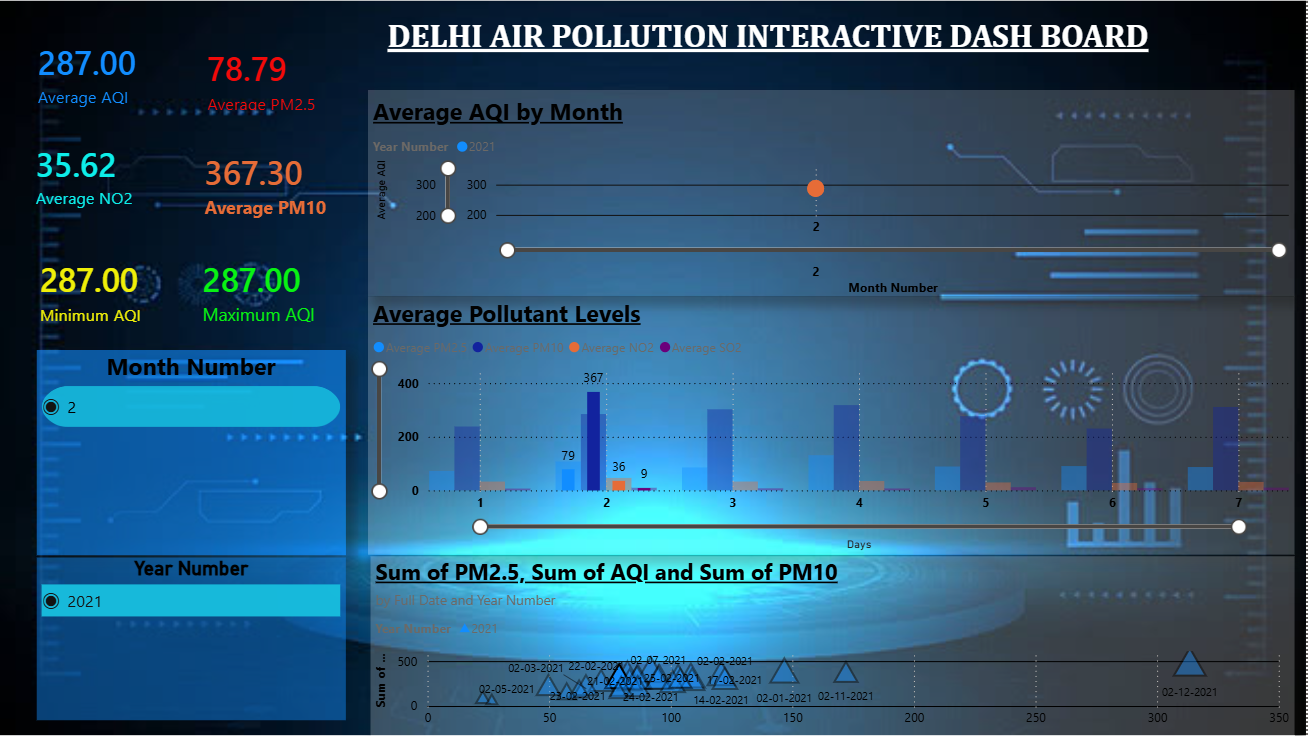

The dashboard page shown, as its layout file describes it:
{"tool":"powerbi","page":{"name":"Page 1","canvas":[1280,720],"ordinal":0},"visuals":[{"type":"image","box":[1.2,0,1279.1,720.2],"z":0},{"type":"cardVisual","fields":{"Data":["delhi_air_quality_clean.Average NO2"]},"box":[0,103.9,199.3,134.5],"z":2000},{"type":"cardVisual","fields":{"Data":["delhi_air_quality_clean.Average PM10"]},"box":[165.1,112.5,209.1,134.5],"z":4000},{"type":"clusteredColumnChart","title":"Average Pollutant Levels","fields":{"Y":["delhi_air_quality_clean.Average PM2.5","delhi_air_quality_clean.Average PM10","delhi_air_quality_clean.Average NO2","delhi_air_quality_clean.Average SO2"],"Category":["delhi_air_quality_clean.Days"]},"box":[362,289.8,918.3,253.1],"z":6000},{"type":"scatterChart","fields":{"Size":["Sum(delhi_air_quality_clean.PM10)"],"X":["Sum(delhi_air_quality_clean.PM2.5)"],"Y":["Sum(delhi_air_quality_clean.AQI)"],"Category":["delhi_air_quality_clean.Full Date"]},"box":[362,545.4,918.3,174.9],"z":7000},{"type":"cardVisual","fields":{"Data":["delhi_air_quality_clean.Maximum AQI"]},"box":[165.1,218.9,199.3,132.1],"z":8000},{"type":"listSlicer","fields":{"Values":["delhi_air_quality_clean.Month Number"]},"box":[37.9,342.4,302,200.5],"z":10000},{"type":"listSlicer","fields":{"Values":["delhi_air_quality_clean.Year Number"]},"box":[37.9,545.4,302,159],"z":11000},{"type":"textbox","box":[448.8,1.2,734.9,88],"z":13000},{"type":"cardVisual","fields":{"Data":["delhi_air_quality_clean.Minimum AQI"]},"box":[0,209.1,189.5,151.6],"z":14000},{"type":"lineChart","title":"Average AQI by Date","fields":{"Y":["delhi_air_quality_clean.Average AQI"],"Series":["delhi_air_quality_clean.Year Number"],"Category":["delhi_air_quality_clean.Full Date Hierarchy.Full Date"]},"box":[359.5,89.3,918.3,201.8],"z":14001},{"type":"cardVisual","fields":{"Data":["delhi_air_quality_clean.Average AQI"]},"box":[0,0,192,144],"z":14003},{"type":"cardVisual","fields":{"Data":["delhi_air_quality_clean.Average PM2.5"]},"box":[176,0,176,144],"z":14004}]}

Visuals, with their boxes in screenshot pixels (x1, y1, x2, y2), scaled from the page's 1280x720 canvas onto the 1308x736 screenshot:
image: pyautogui.locateOnScreen(1, 0, 1307, 735)
cardVisual - delhi_air_quality_clean.Average NO2: pyautogui.locateOnScreen(0, 106, 204, 244)
cardVisual - delhi_air_quality_clean.Average PM10: pyautogui.locateOnScreen(169, 115, 382, 252)
"Average Pollutant Levels" clusteredColumnChart: pyautogui.locateOnScreen(370, 296, 1307, 555)
scatterChart - Sum(delhi_air_quality_clean.PM10) x Sum(delhi_air_quality_clean.PM2.5): pyautogui.locateOnScreen(370, 558, 1307, 735)
cardVisual - delhi_air_quality_clean.Maximum AQI: pyautogui.locateOnScreen(169, 224, 372, 359)
listSlicer - delhi_air_quality_clean.Month Number: pyautogui.locateOnScreen(39, 350, 347, 555)
listSlicer - delhi_air_quality_clean.Year Number: pyautogui.locateOnScreen(39, 558, 347, 720)
textbox: pyautogui.locateOnScreen(459, 1, 1210, 91)
cardVisual - delhi_air_quality_clean.Minimum AQI: pyautogui.locateOnScreen(0, 214, 194, 369)
"Average AQI by Date" lineChart: pyautogui.locateOnScreen(367, 91, 1306, 298)
cardVisual - delhi_air_quality_clean.Average AQI: pyautogui.locateOnScreen(0, 0, 196, 147)
cardVisual - delhi_air_quality_clean.Average PM2.5: pyautogui.locateOnScreen(180, 0, 360, 147)
